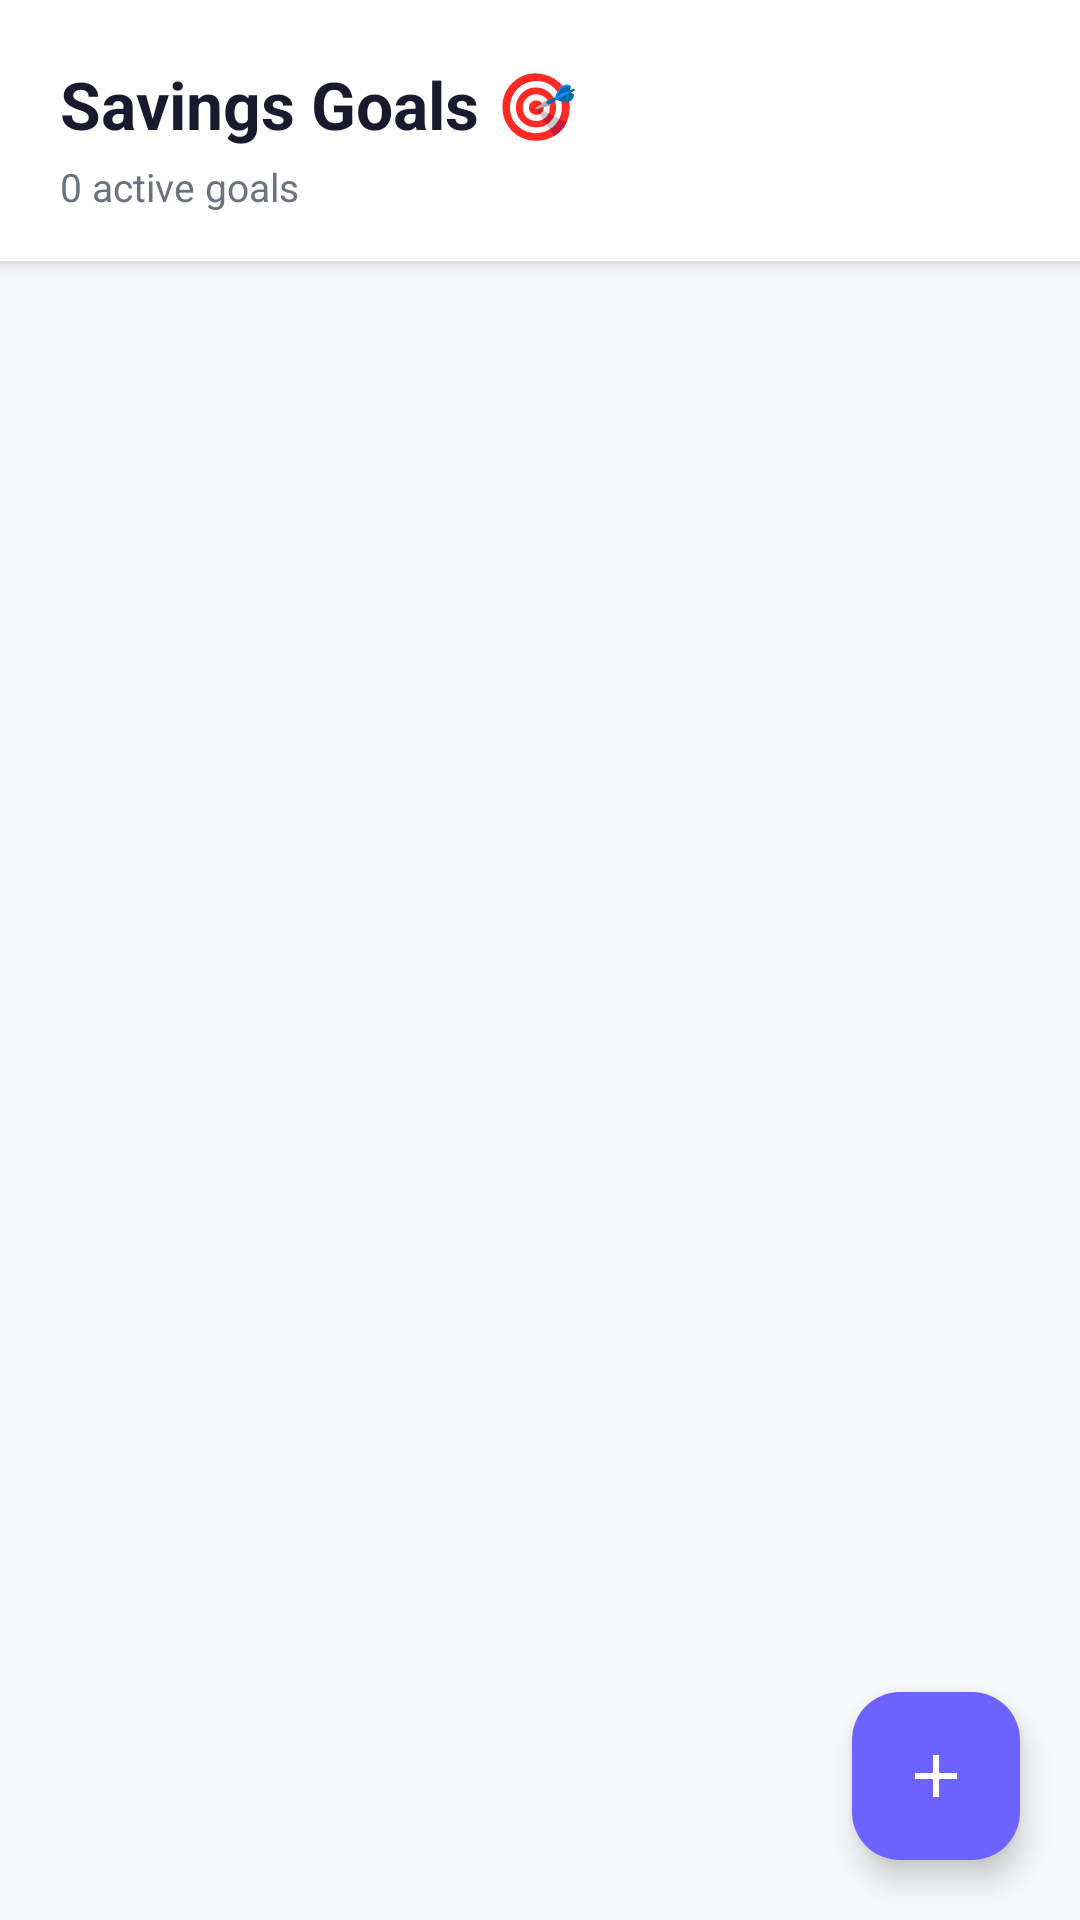

Icons on this 1080×1920 Android screen, each with its box as Rect(x1, y1, x2, y2):
Add Goal: Rect(852, 1692, 1020, 1860)
